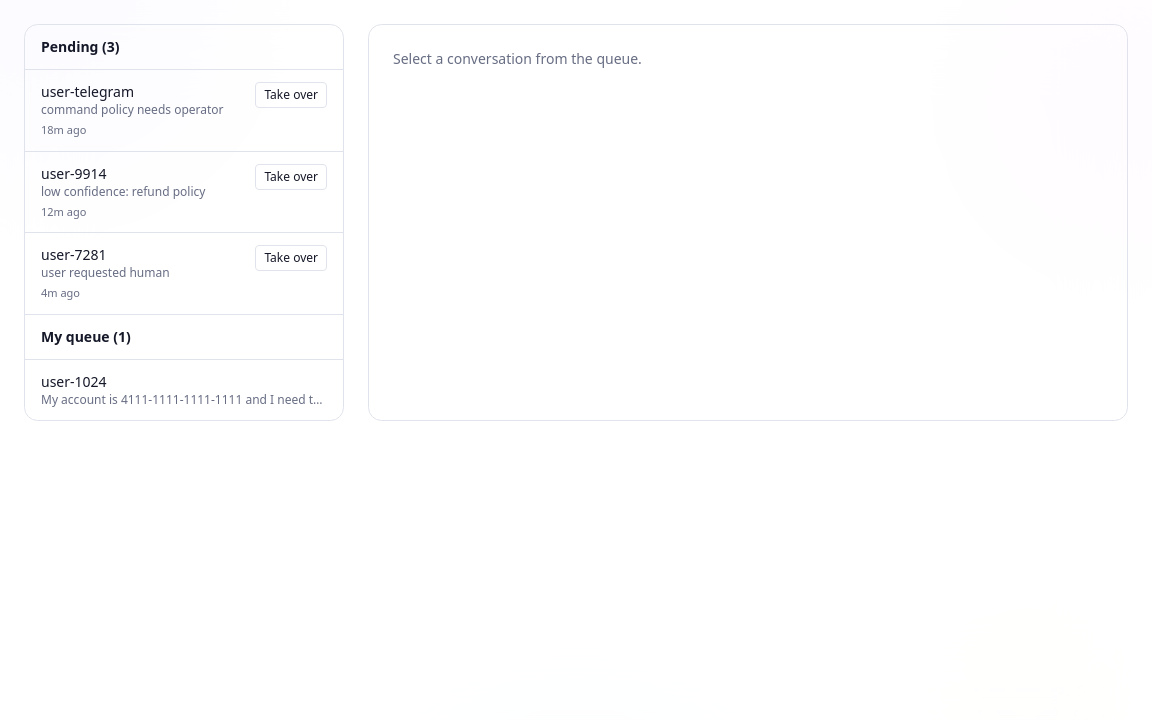
Test: InboxScreen › Release returns a claimed item to pending
Click the button with test id "claim-11111111-1111-1111-1111-111111111111": [291, 258] box [255,245,327,271]
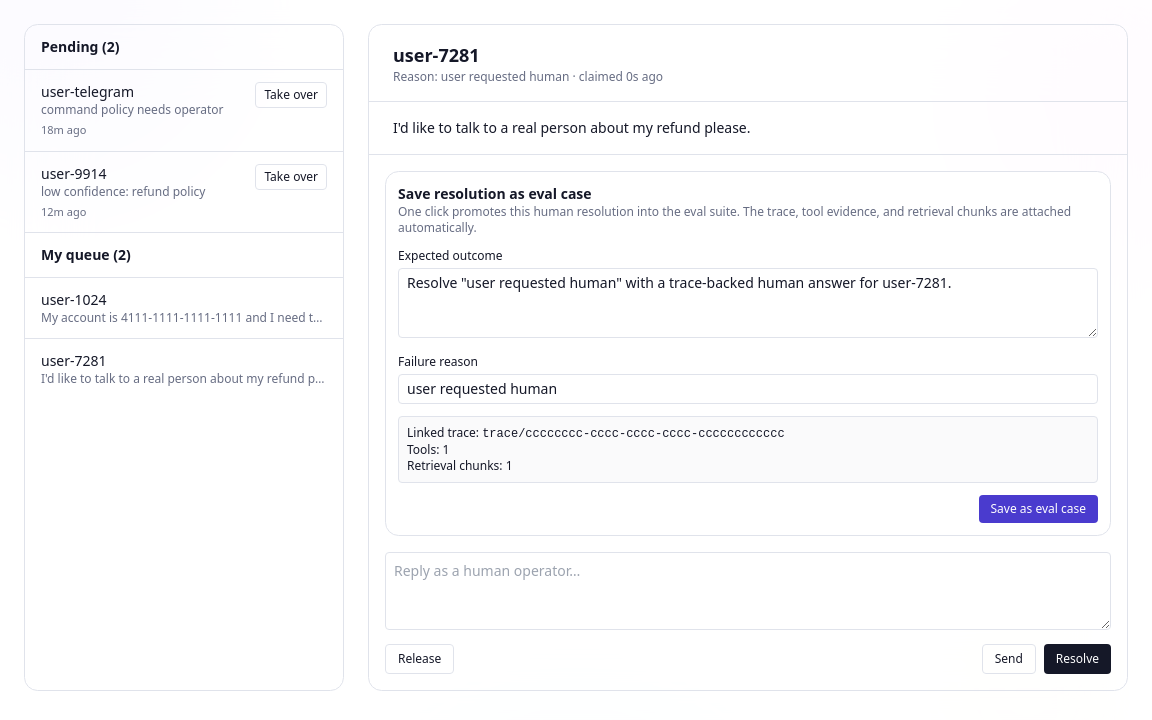
Click the button with test id "release-button": [420, 659] box [385,644,454,674]
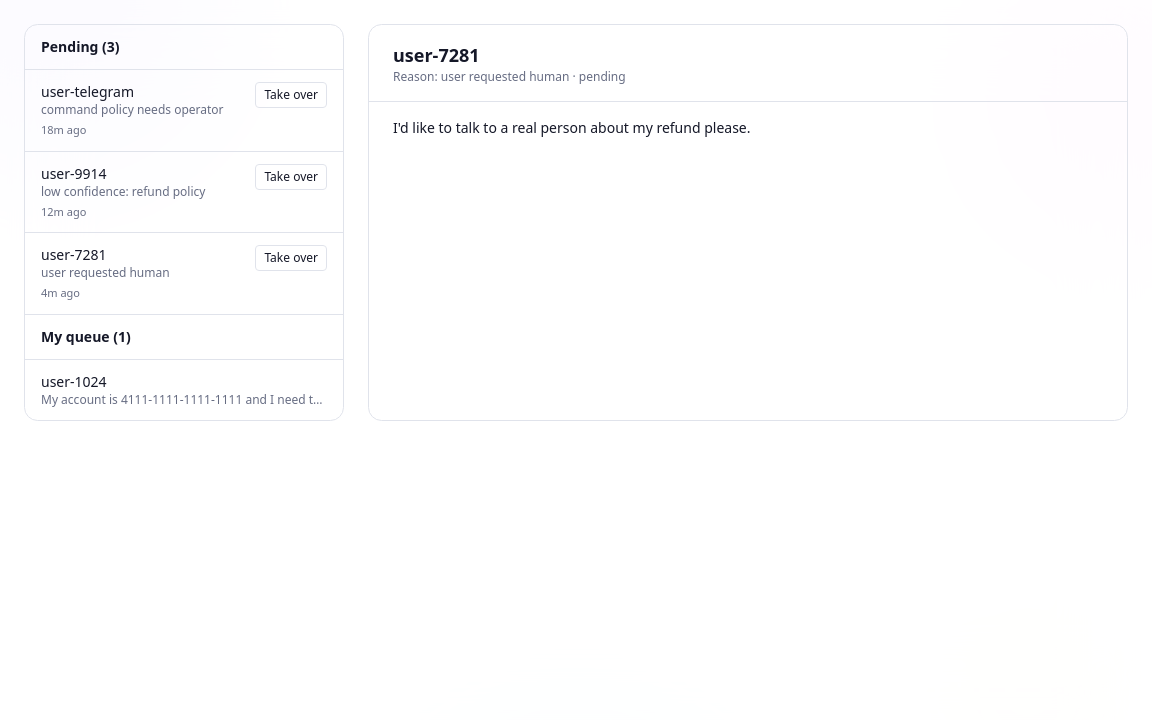
Now the text box with test id "composer-input" is gone
Now the list item with test id "pending-row-11111111-1111-1111-1111-111111111111" is shown, box [25,233,343,314]
